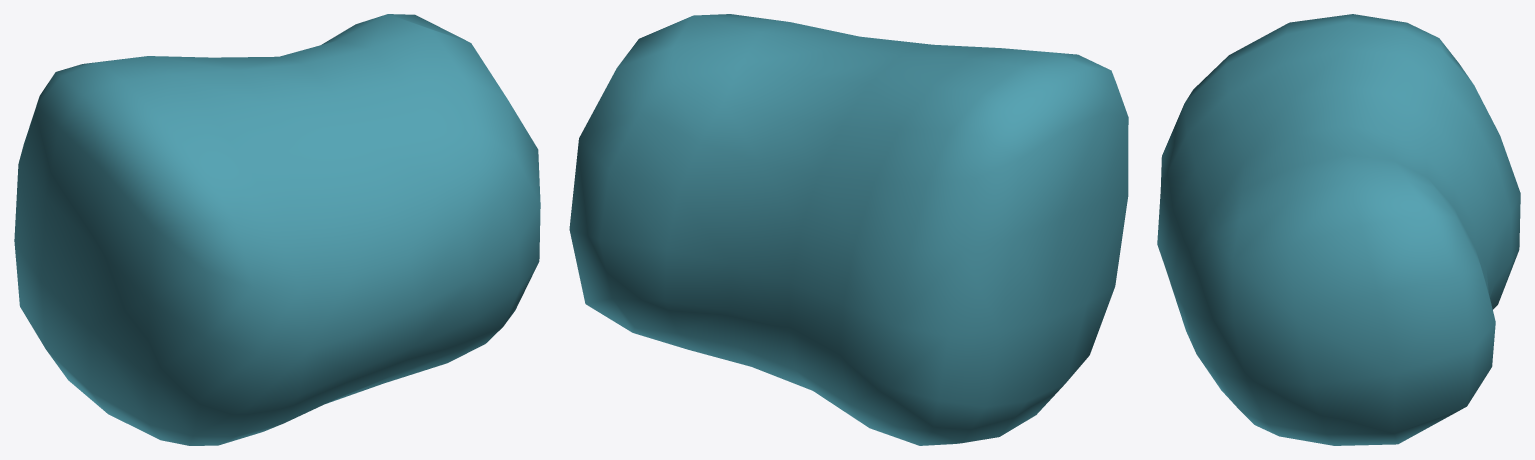
File: VIS_Alpha_Surface_019.dae
3 renders of one model, left to right at view 1: azimuth 30°, elevation 25°; view 2: azimuth 150°, elevation 25°; view 3: azimuth 270°, elevation 25°, orthographic. The views are drawn at different scales.
Parts seen in each view (by area): view 1: VIS_Alpha_Surface_019; view 2: VIS_Alpha_Surface_019; view 3: VIS_Alpha_Surface_019.
Part boxes in pixels (<box>): VIS_Alpha_Surface_019: <box>14,14,540,445</box>; VIS_Alpha_Surface_019: <box>569,14,1128,445</box>; VIS_Alpha_Surface_019: <box>1157,14,1520,445</box>.
Bounding box in the file's own units: 3.81 × 3 × 2.77.
